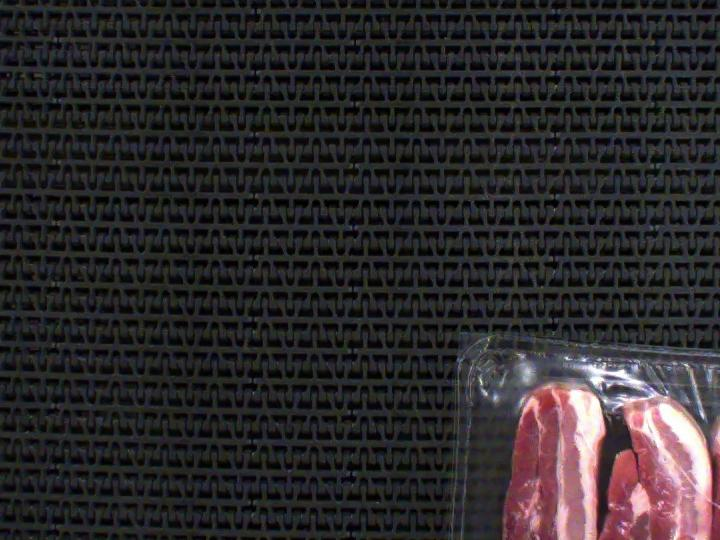unsealed: (467, 345, 720, 540)
